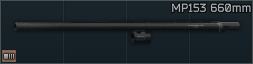MP-153 12ga 660mm barrel: (0, 0, 253, 64)
